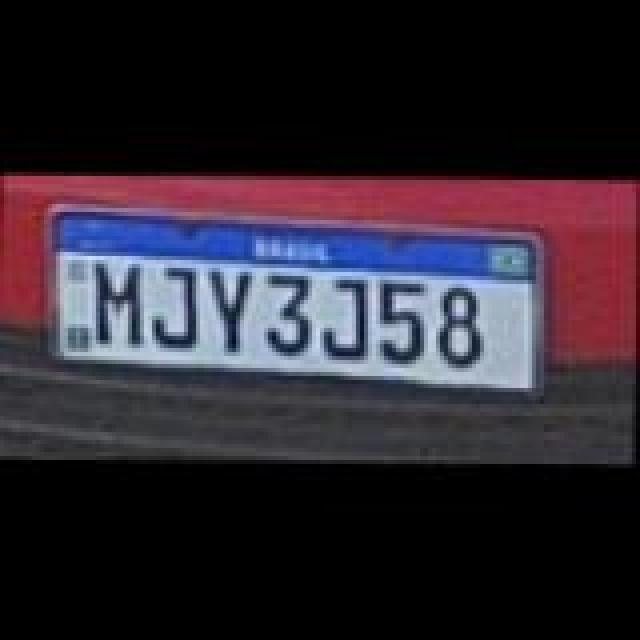3: (258, 268, 314, 352)
5: (384, 278, 436, 362)
8: (438, 282, 486, 366)
H: (92, 258, 152, 342)
J: (150, 262, 206, 346), (324, 276, 376, 360)
Y: (206, 266, 262, 350)
